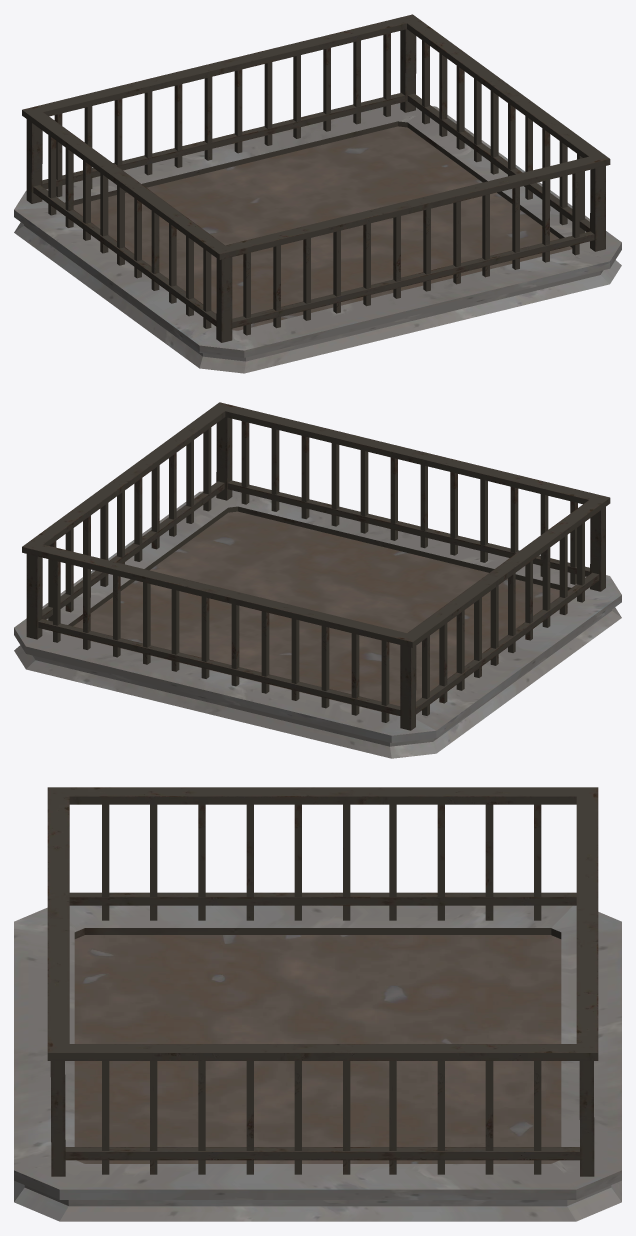
File: Sidewalk_Planter.glb
The picture shows the model from 3 angles, top to bottom: view 1: azimuth 30°, elevation 25°; view 2: azimuth 150°, elevation 25°; view 3: azimuth 270°, elevation 25°; orthographic projection. The views are drawn at different scales.
Parts seen in each view (by area): view 1: Sidewalk_Planter; view 2: Sidewalk_Planter; view 3: Sidewalk_Planter.
Part boxes in pixels (x1=…): Sidewalk_Planter: x1=14, y1=14, x2=621, y2=373; Sidewalk_Planter: x1=14, y1=402, x2=621, y2=758; Sidewalk_Planter: x1=14, y1=787, x2=621, y2=1221.
Size of the model in its own units: 1.97 by 0.5057 by 1.77.
2 materials, 2 textured.
